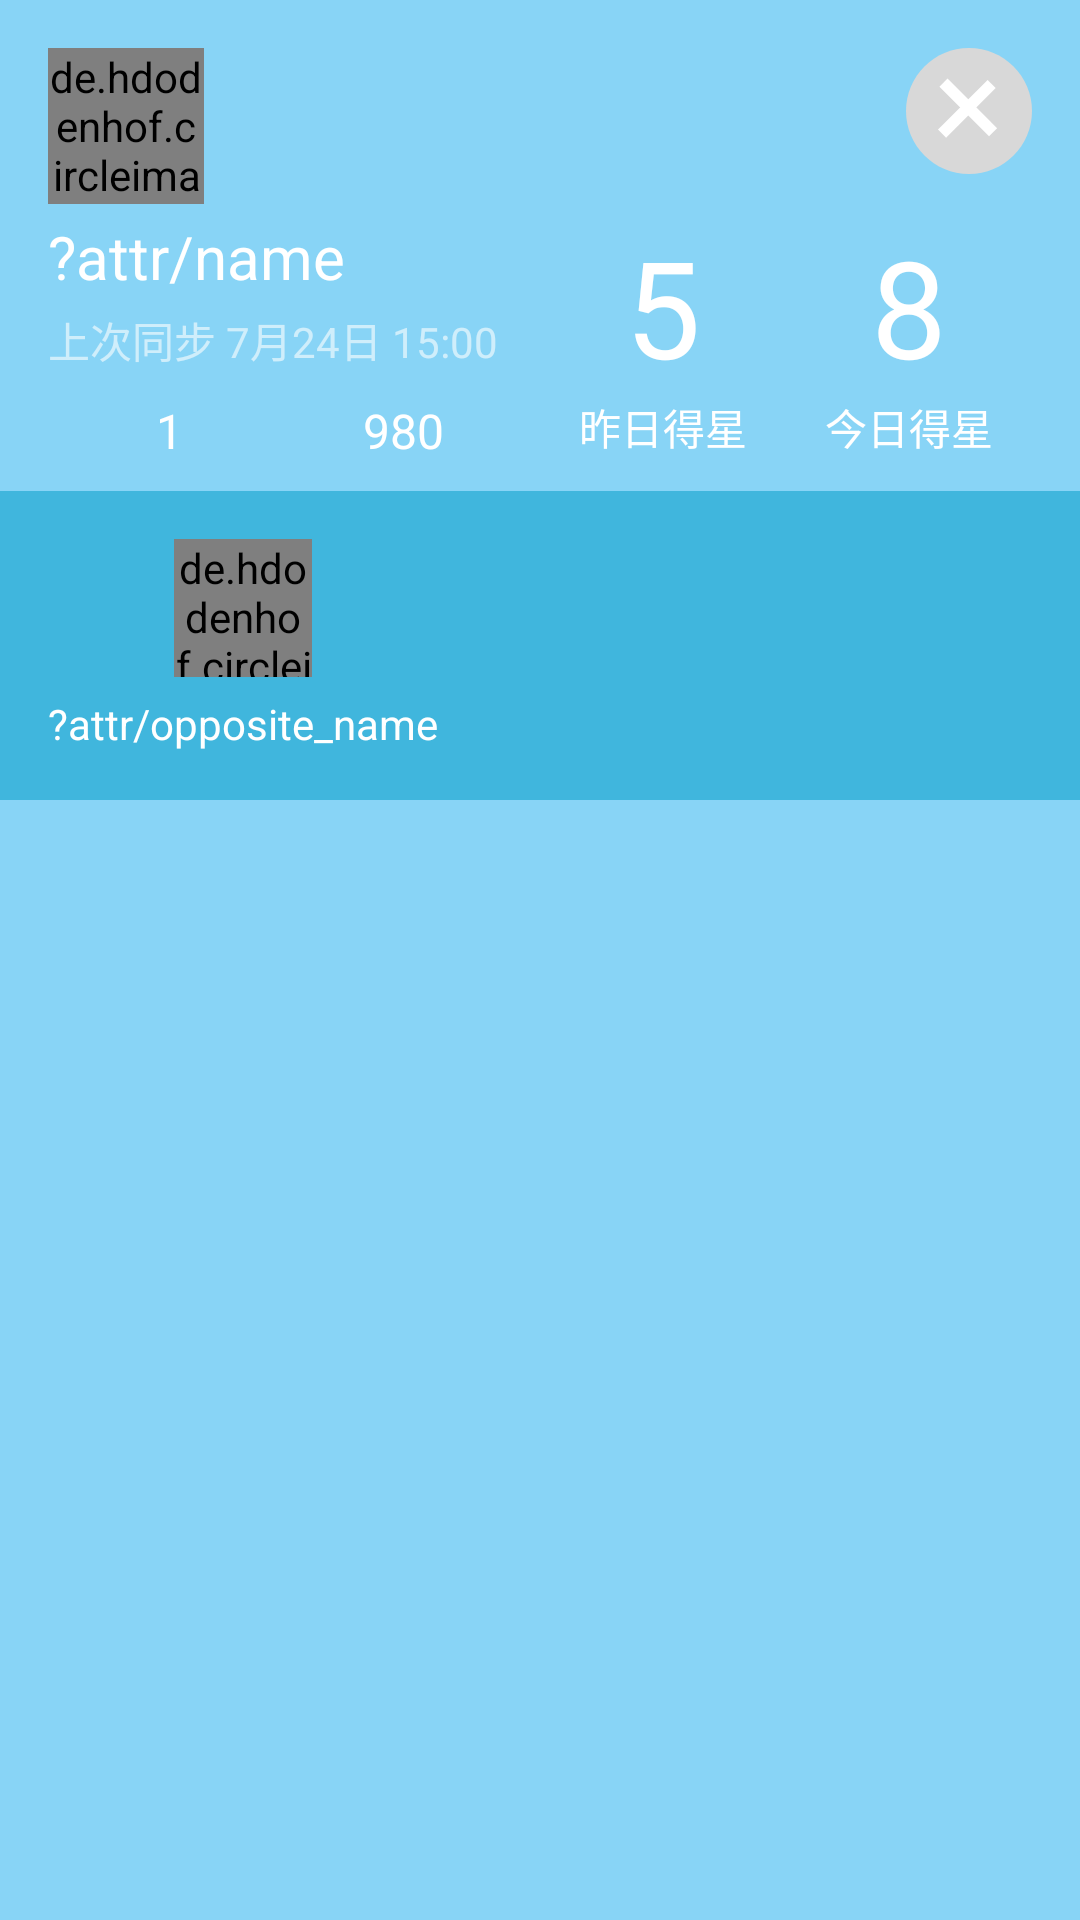

Screen size 1080px x 1920px. Icon name, then its center in pixels as [x,y]:
close: [969,111]
